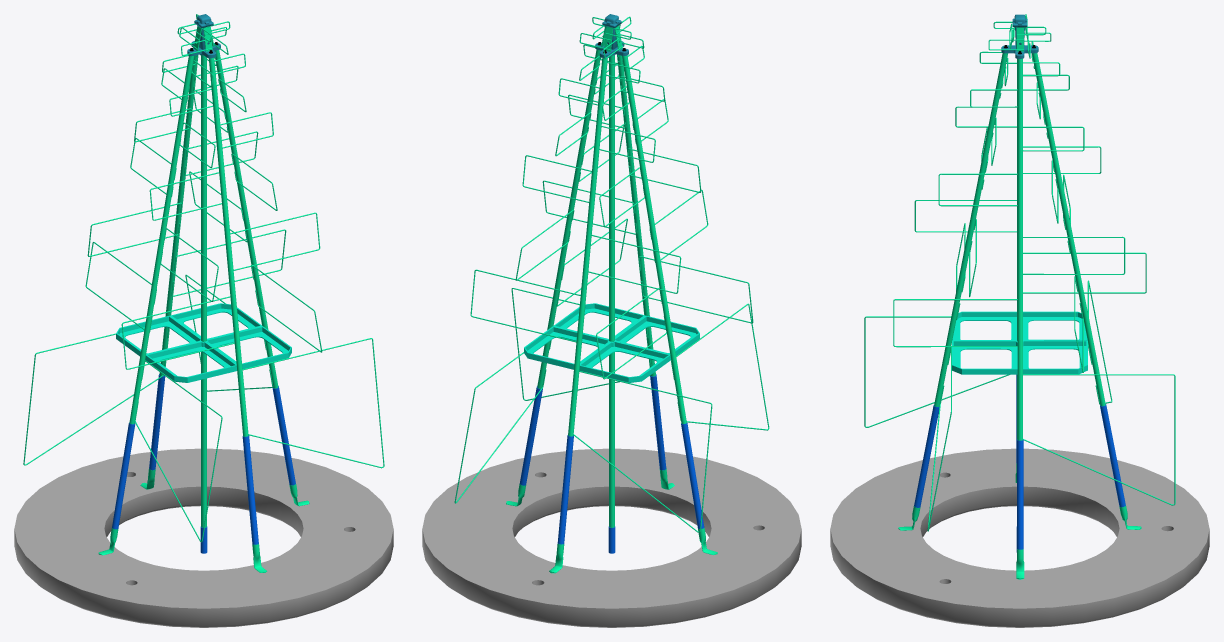
Rendered from SKA ANTENNA_V2.obj.
3 views of the same model, side by side, from view 1: azimuth 30°, elevation 25°; view 2: azimuth 150°, elevation 25°; view 3: azimuth 270°, elevation 25° (orthographic).
Visible parts, largest first — view 1: CONCRETE, POSTS, WIRES, FRAME, POSTS___Bottom, TOP; view 2: CONCRETE, POSTS, WIRES, FRAME, POSTS___Bottom, TOP; view 3: CONCRETE, WIRES, POSTS, FRAME, POSTS___Bottom, TOP.
Part boxes in pixels (x1,y1,x2,y2): CONCRETE: [14, 448, 393, 627]; POSTS: [98, 26, 309, 572]; WIRES: [23, 14, 384, 542]; FRAME: [116, 303, 291, 382]; POSTS___Bottom: [112, 374, 295, 553]; TOP: [187, 14, 220, 58]; CONCRETE: [422, 448, 801, 627]; POSTS: [506, 25, 717, 573]; WIRES: [454, 16, 769, 532]; FRAME: [524, 303, 699, 382]; POSTS___Bottom: [519, 374, 704, 553]; TOP: [595, 14, 628, 58]; CONCRETE: [830, 448, 1209, 627]; WIRES: [864, 14, 1175, 531]; POSTS: [898, 27, 1141, 579]; FRAME: [952, 311, 1087, 374]; POSTS___Bottom: [914, 374, 1125, 552]; TOP: [1001, 14, 1038, 58].
Bounding box in the file's own units: 124 × 193 × 124.
